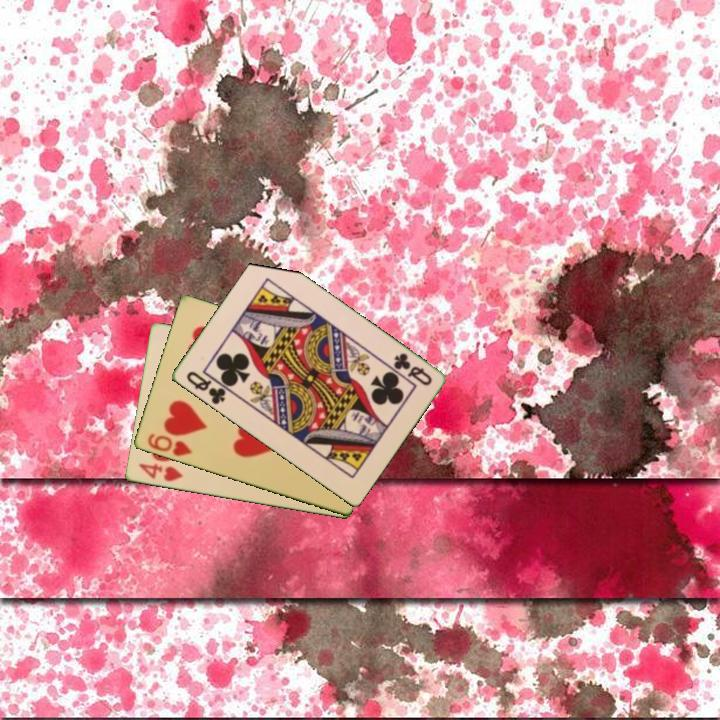4h: (134, 460, 185, 485)
6h: (144, 430, 194, 459)
Qc: (182, 368, 233, 408), (389, 349, 435, 389)
